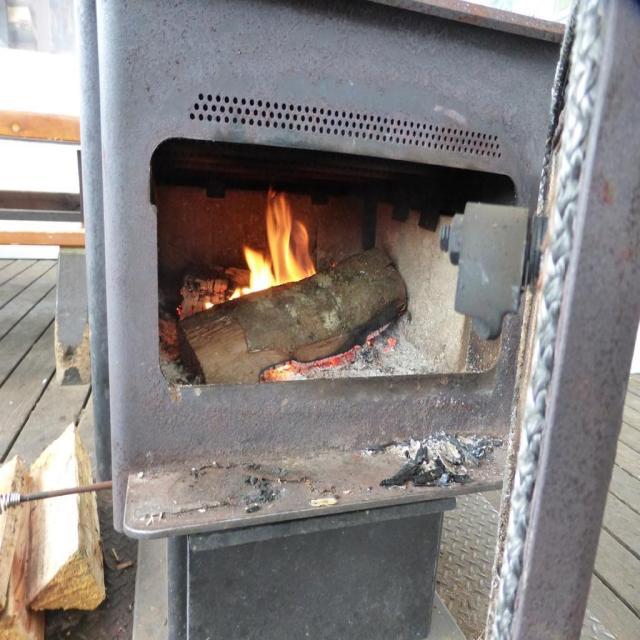Fire: (232, 195, 316, 297)
